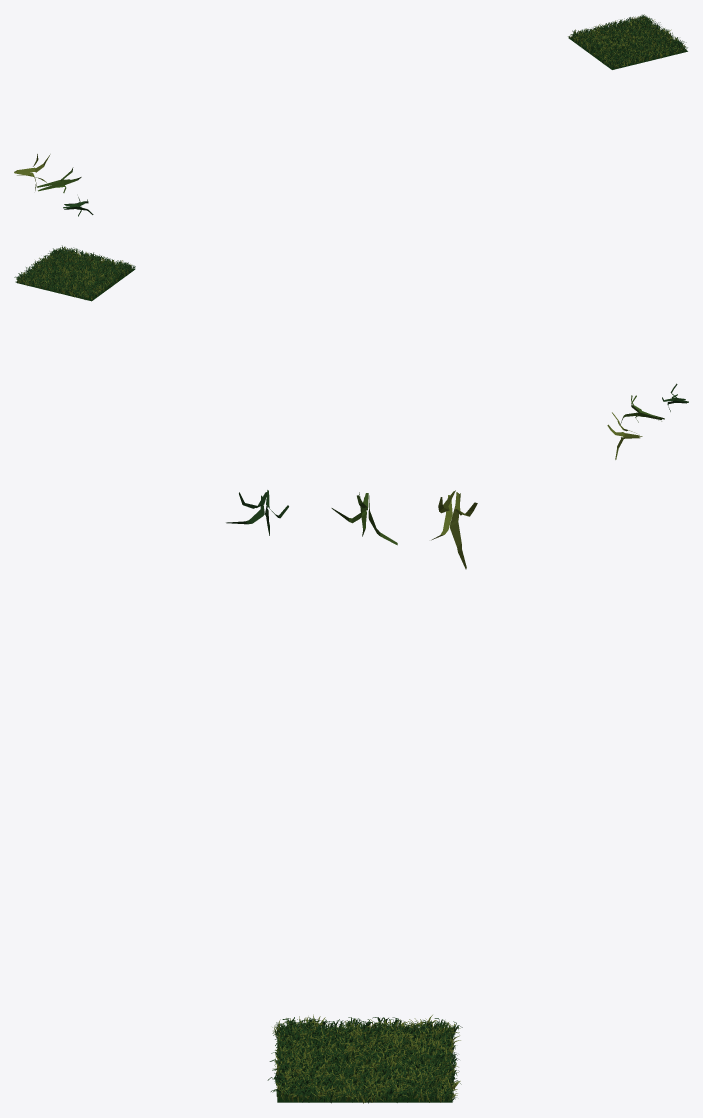
The model's file is grass_tile1.fbx.
The picture shows the model from 3 angles, top to bottom: view 1: azimuth 30°, elevation 25°; view 2: azimuth 150°, elevation 25°; view 3: azimuth 270°, elevation 25°; orthographic projection. The views are drawn at different scales.
Visible parts, largest first — view 1: Plane; view 2: Plane; view 3: Plane, grass2.
Boxes of the visible parts, box(x1,y1,x2,y2) form: Plane: box(568, 22, 687, 69); Plane: box(16, 255, 134, 301); Plane: box(277, 1028, 452, 1102); grass2: box(431, 490, 477, 569).
Size of the model in its own units: 1661 by 108 by 288.
